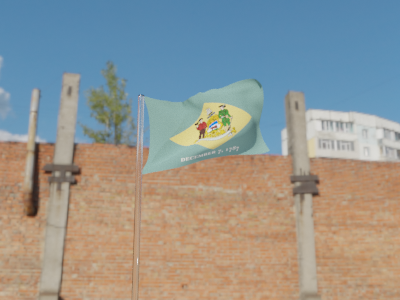Delaware flag: (141, 76, 270, 174)
